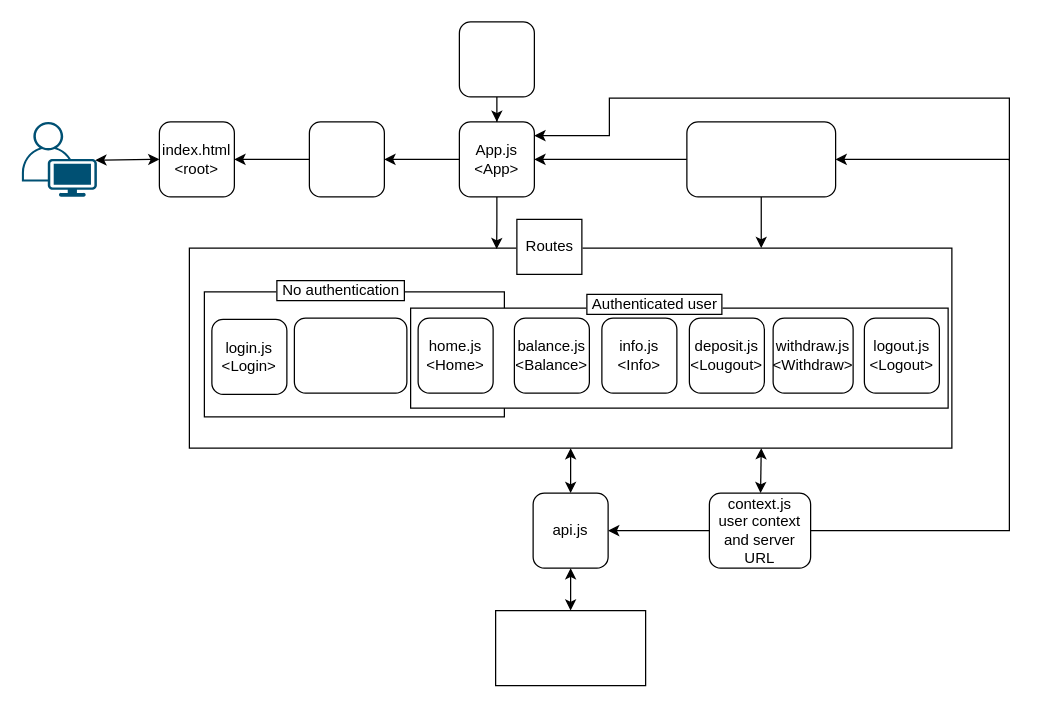
Some shapes in this 1041 by 708 pixel diagram are drawn without their labels. Here are the shapes that lost their labels. From the top down, the centre of each, then its label:
(496,59): App.css
(346,159): index.js
(761,159): navbar.js <NavBar> <NoAuthNavBar>
(350,355): creataccount.js <CreatAccount>
(570,647): Backend server and Authentication server
